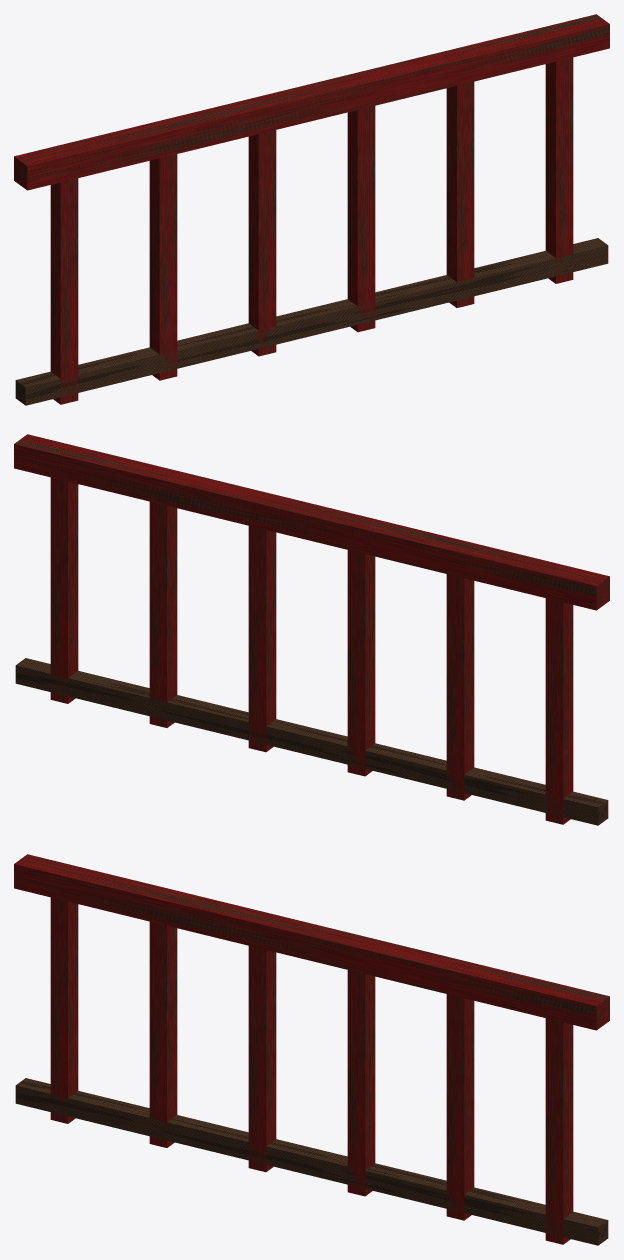
File: railing.glb
The picture shows the model from 3 angles, top to bottom: view 1: azimuth 30°, elevation 25°; view 2: azimuth 150°, elevation 25°; view 3: azimuth 330°, elevation 25°; orthographic projection.
Visible parts, largest first — view 1: RailTop, RailBot, Bar0, Bar3, Bar1, Bar2, Bar5, Bar4; view 2: RailTop, RailBot, Bar0, Bar3, Bar1, Bar2, Bar5, Bar4; view 3: RailTop, RailBot, Bar5, Bar2, Bar4, Bar3, Bar0, Bar1.
Part boxes in pixels (x1=…): RailTop: x1=14, y1=14, x2=609, y2=190; RailBot: x1=15, y1=238, x2=608, y2=405; Bar0: x1=50, y1=178, x2=78, y2=404; Bar3: x1=347, y1=106, x2=375, y2=332; Bar1: x1=149, y1=154, x2=177, y2=380; Bar2: x1=248, y1=130, x2=276, y2=356; Bar5: x1=545, y1=57, x2=573, y2=283; Bar4: x1=446, y1=81, x2=474, y2=307; RailTop: x1=14, y1=434, x2=609, y2=610; RailBot: x1=15, y1=658, x2=608, y2=825; Bar0: x1=545, y1=598, x2=573, y2=824; Bar3: x1=248, y1=526, x2=276, y2=752; Bar1: x1=446, y1=574, x2=474, y2=800; Bar2: x1=347, y1=550, x2=375, y2=776; Bar5: x1=50, y1=477, x2=78, y2=703; Bar4: x1=149, y1=501, x2=177, y2=727; RailTop: x1=14, y1=854, x2=609, y2=1030; RailBot: x1=15, y1=1078, x2=608, y2=1245; Bar5: x1=545, y1=1018, x2=573, y2=1244; Bar2: x1=248, y1=946, x2=276, y2=1172; Bar4: x1=446, y1=994, x2=474, y2=1220; Bar3: x1=347, y1=970, x2=375, y2=1196; Bar0: x1=50, y1=897, x2=78, y2=1123; Bar1: x1=149, y1=921, x2=177, y2=1147.
Size of what is drawn, in the model's own units: 2 by 0.815 by 0.08.
2 materials, 2 textured.
